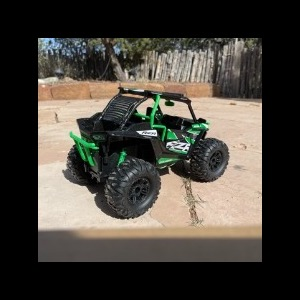polaris: (60, 80, 232, 223)
